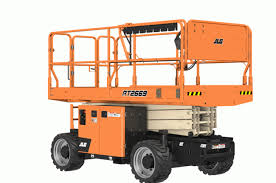Scissor Lift: (46, 19, 254, 183)
